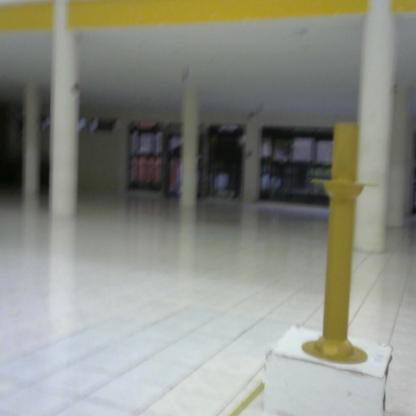pole: (302, 115, 383, 371)
